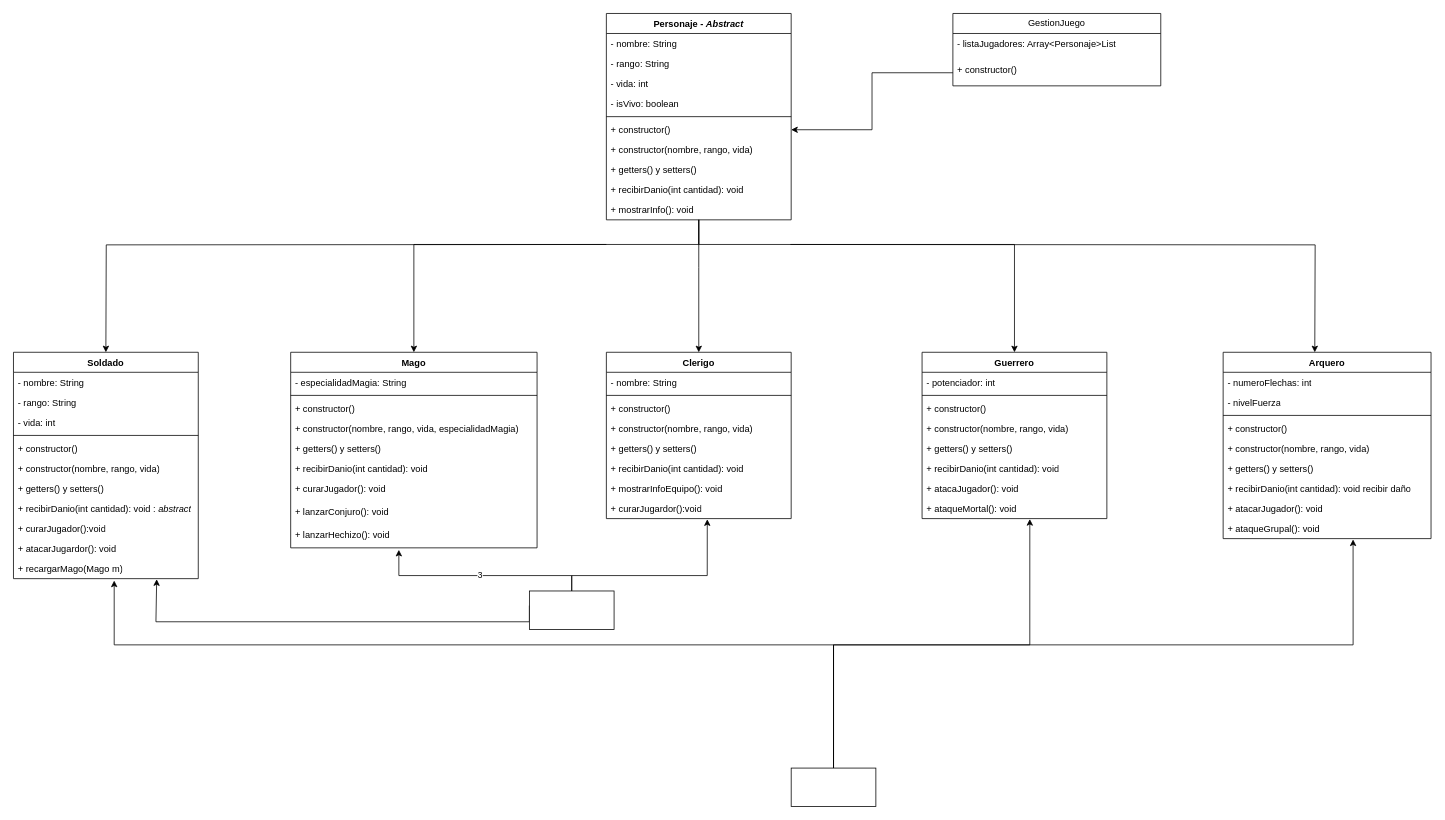
The diagram is 1445 pixels wide and 820 high, and some of its shapes have lost their labels. Each missing label, with the centre of its shape:
"«interface» IAtancante" belongs at (833,787).
"«interface» ICurador" belongs at (571,609).
